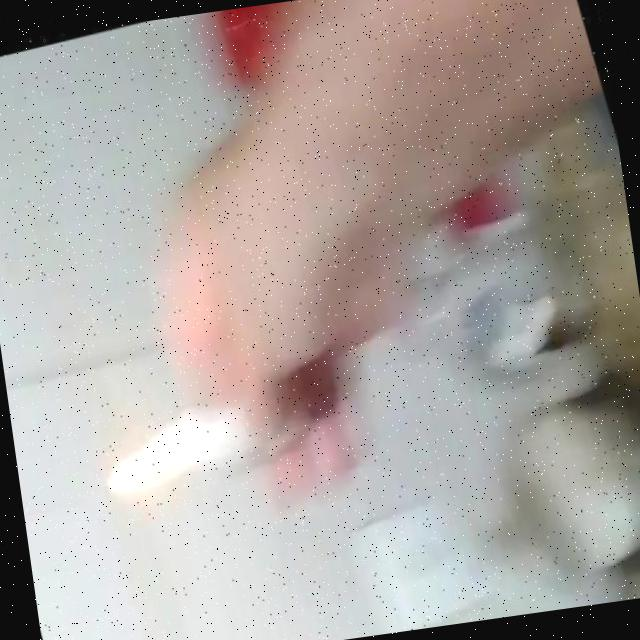fire: (84, 406, 211, 506)
